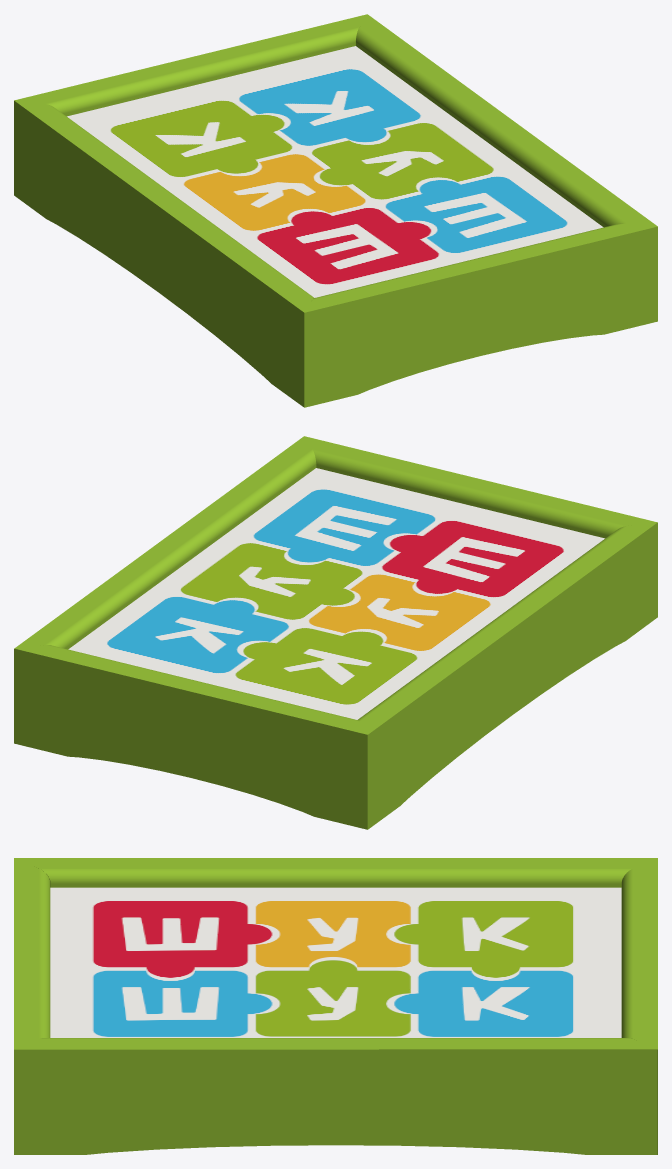
File: greenPlayZone.gltf
3 renders of one model, top to bottom at view 1: azimuth 30°, elevation 25°; view 2: azimuth 150°, elevation 25°; view 3: azimuth 270°, elevation 25°, orthographic. The views are drawn at different scales.
Visible parts, largest first — view 1: Плоскость.004; view 2: Плоскость.004; view 3: Плоскость.004.
Boxes of the visible parts, <box> form: Плоскость.004: <box>14,14,657,407</box>; Плоскость.004: <box>14,436,657,829</box>; Плоскость.004: <box>14,858,657,1154</box>.
Size of the model in its own units: 11.94 by 3.07 by 16.97.
2 materials, 1 textured.
